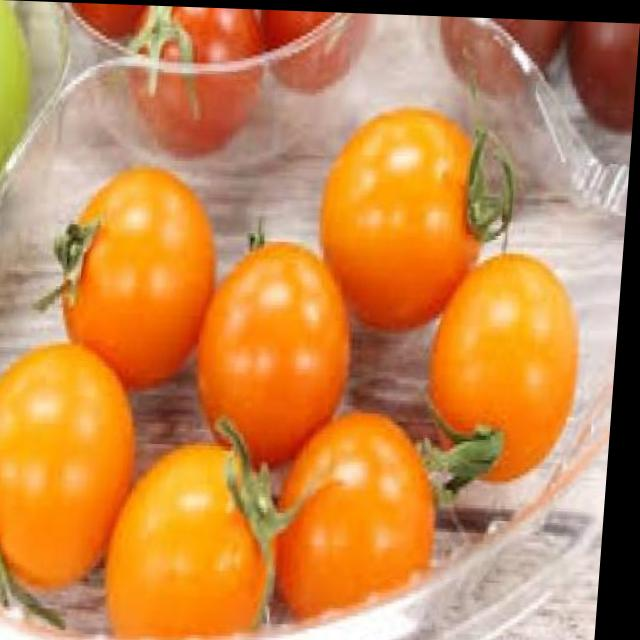sari: (31, 142, 511, 610)
